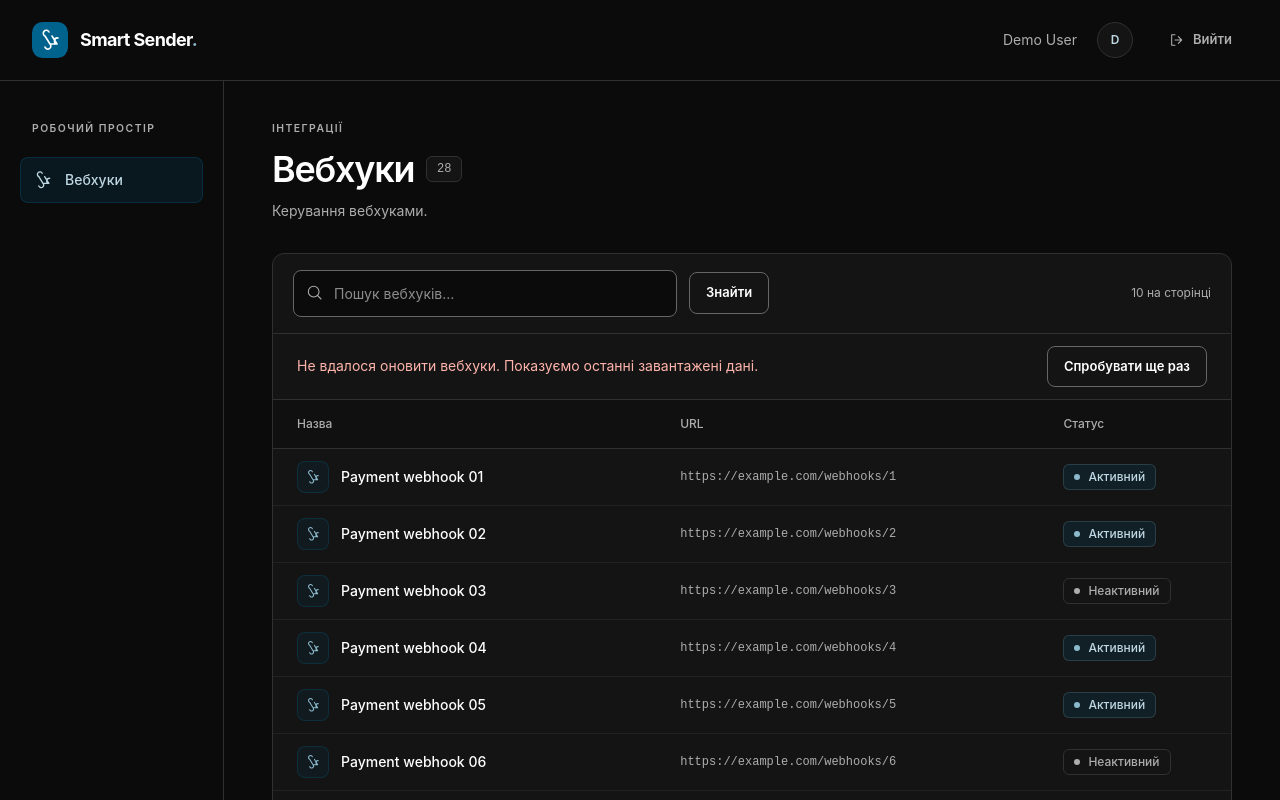
Scenario: background loading and a refresh failure retain the cached rows until a successful retry
Check: the heading "Вебхуки" is shown, box [272,149,414,189]
Check: the message shows "Не вдалося оновити вебхуки.", box [297,357,758,374]
Click the button "Спробувати ще раз" at (1127, 366), box [1047,346,1207,387]
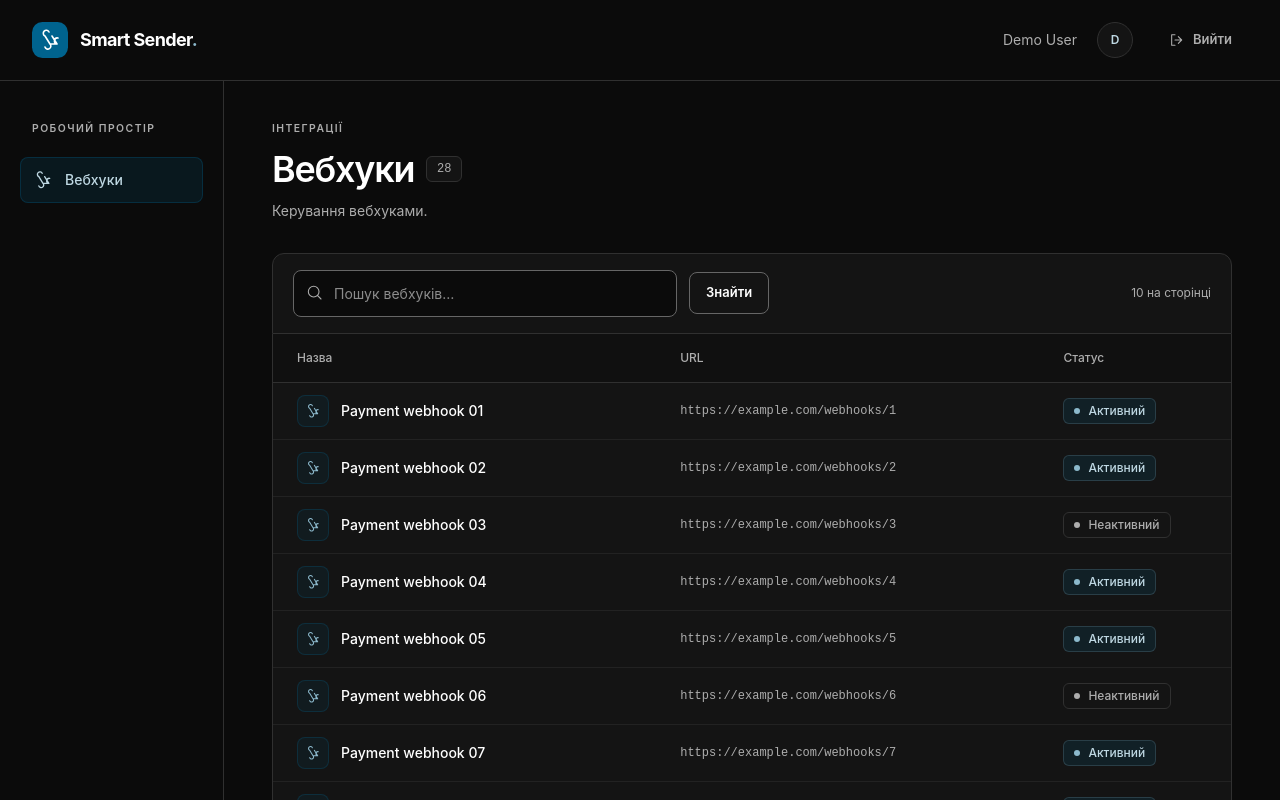
Check: the message "Не вдалося оновити вебхуки. Показуємо останні завантажені дані." is gone
